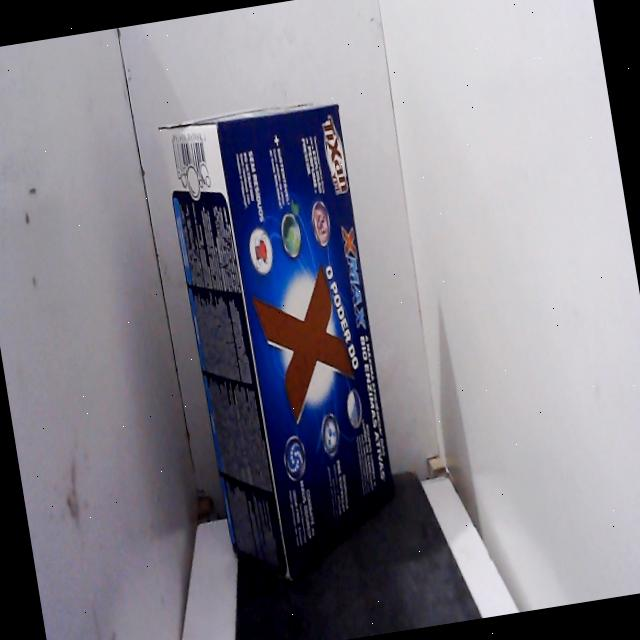papel: (149, 80, 420, 608)
